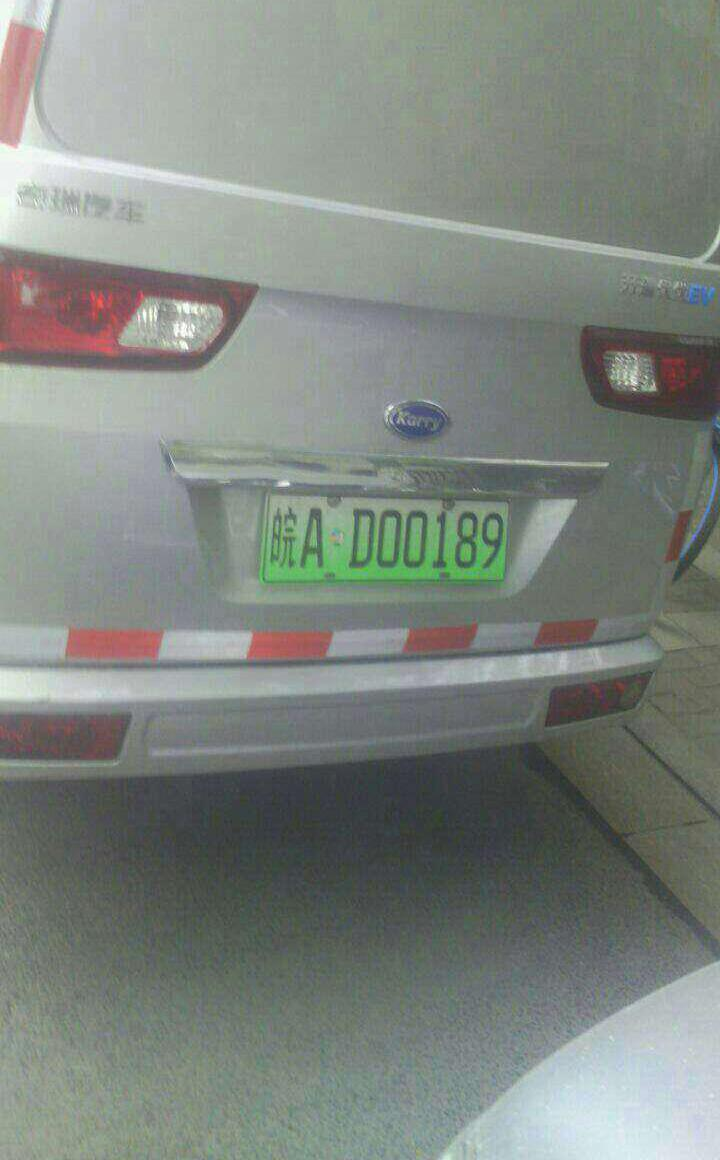car_id: (265, 489, 511, 577)
